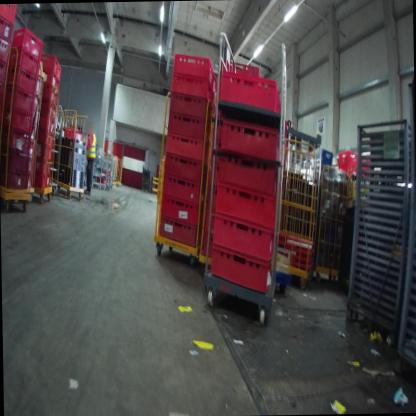small_load_carrier: (209, 241, 281, 294), (214, 179, 280, 236), (210, 214, 281, 266), (217, 63, 284, 118), (217, 117, 278, 171), (217, 159, 282, 195), (167, 87, 215, 132), (170, 52, 215, 99), (154, 216, 200, 256), (158, 169, 205, 207), (168, 70, 214, 108), (165, 130, 208, 168), (164, 149, 205, 186), (163, 112, 213, 142), (159, 193, 201, 226), (5, 75, 38, 113), (11, 28, 44, 62), (339, 143, 370, 179), (2, 123, 33, 159), (10, 45, 41, 79), (3, 100, 33, 134), (7, 64, 38, 96), (2, 168, 34, 198), (1, 146, 29, 173), (39, 49, 63, 80), (201, 181, 219, 214), (0, 12, 15, 47), (37, 126, 57, 151), (40, 83, 60, 108), (40, 68, 62, 89), (40, 92, 60, 115), (29, 170, 51, 190), (39, 112, 57, 136), (0, 3, 17, 26), (201, 229, 214, 258), (0, 36, 11, 67), (36, 139, 52, 160), (0, 57, 10, 90), (30, 159, 52, 174), (63, 129, 86, 141), (202, 208, 213, 229)
